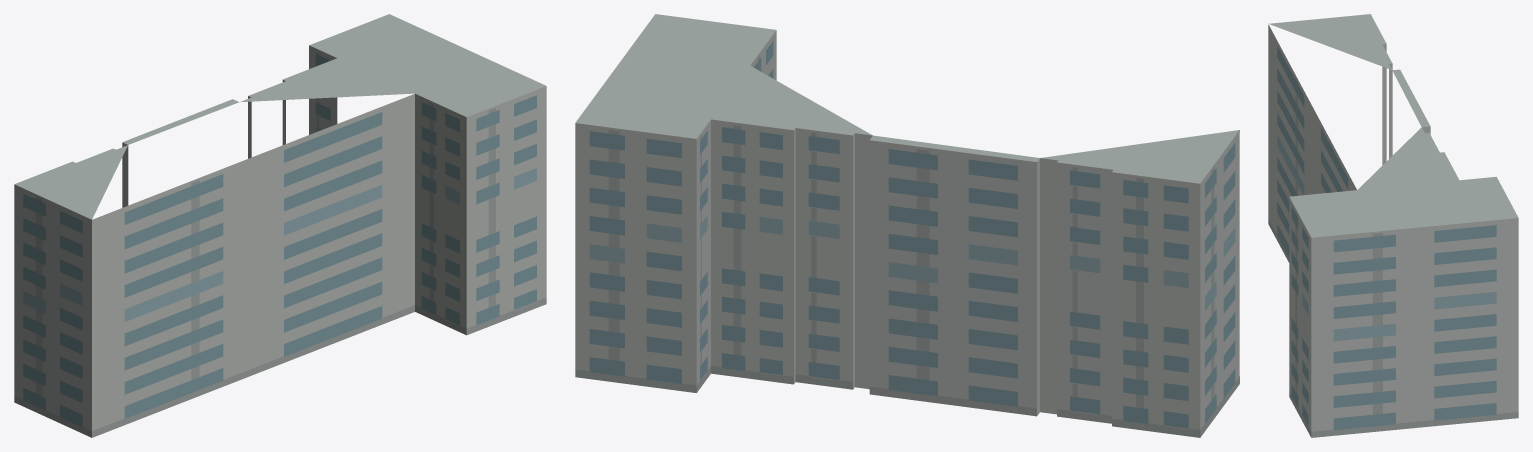
Rendered from residential-14d809b1-8996-4ba8-b29f-d04e9c54395f.glb.
3 renders of one model, left to right at view 1: azimuth 30°, elevation 25°; view 2: azimuth 150°, elevation 25°; view 3: azimuth 270°, elevation 25°, orthographic. The views are drawn at different scales.
Parts seen in each view (by area): view 1: residential-14d809b1-8996-4ba8-b29f-d04e9c54395f.tmp; view 2: residential-14d809b1-8996-4ba8-b29f-d04e9c54395f.tmp; view 3: residential-14d809b1-8996-4ba8-b29f-d04e9c54395f.tmp.
Part boxes in pixels (x1,y1,x2,y2): residential-14d809b1-8996-4ba8-b29f-d04e9c54395f.tmp: (14,14,546,437); residential-14d809b1-8996-4ba8-b29f-d04e9c54395f.tmp: (575,14,1239,437); residential-14d809b1-8996-4ba8-b29f-d04e9c54395f.tmp: (1268,14,1518,437).
Bounding box in the file's own units: 59.97 × 25 × 28.36.
